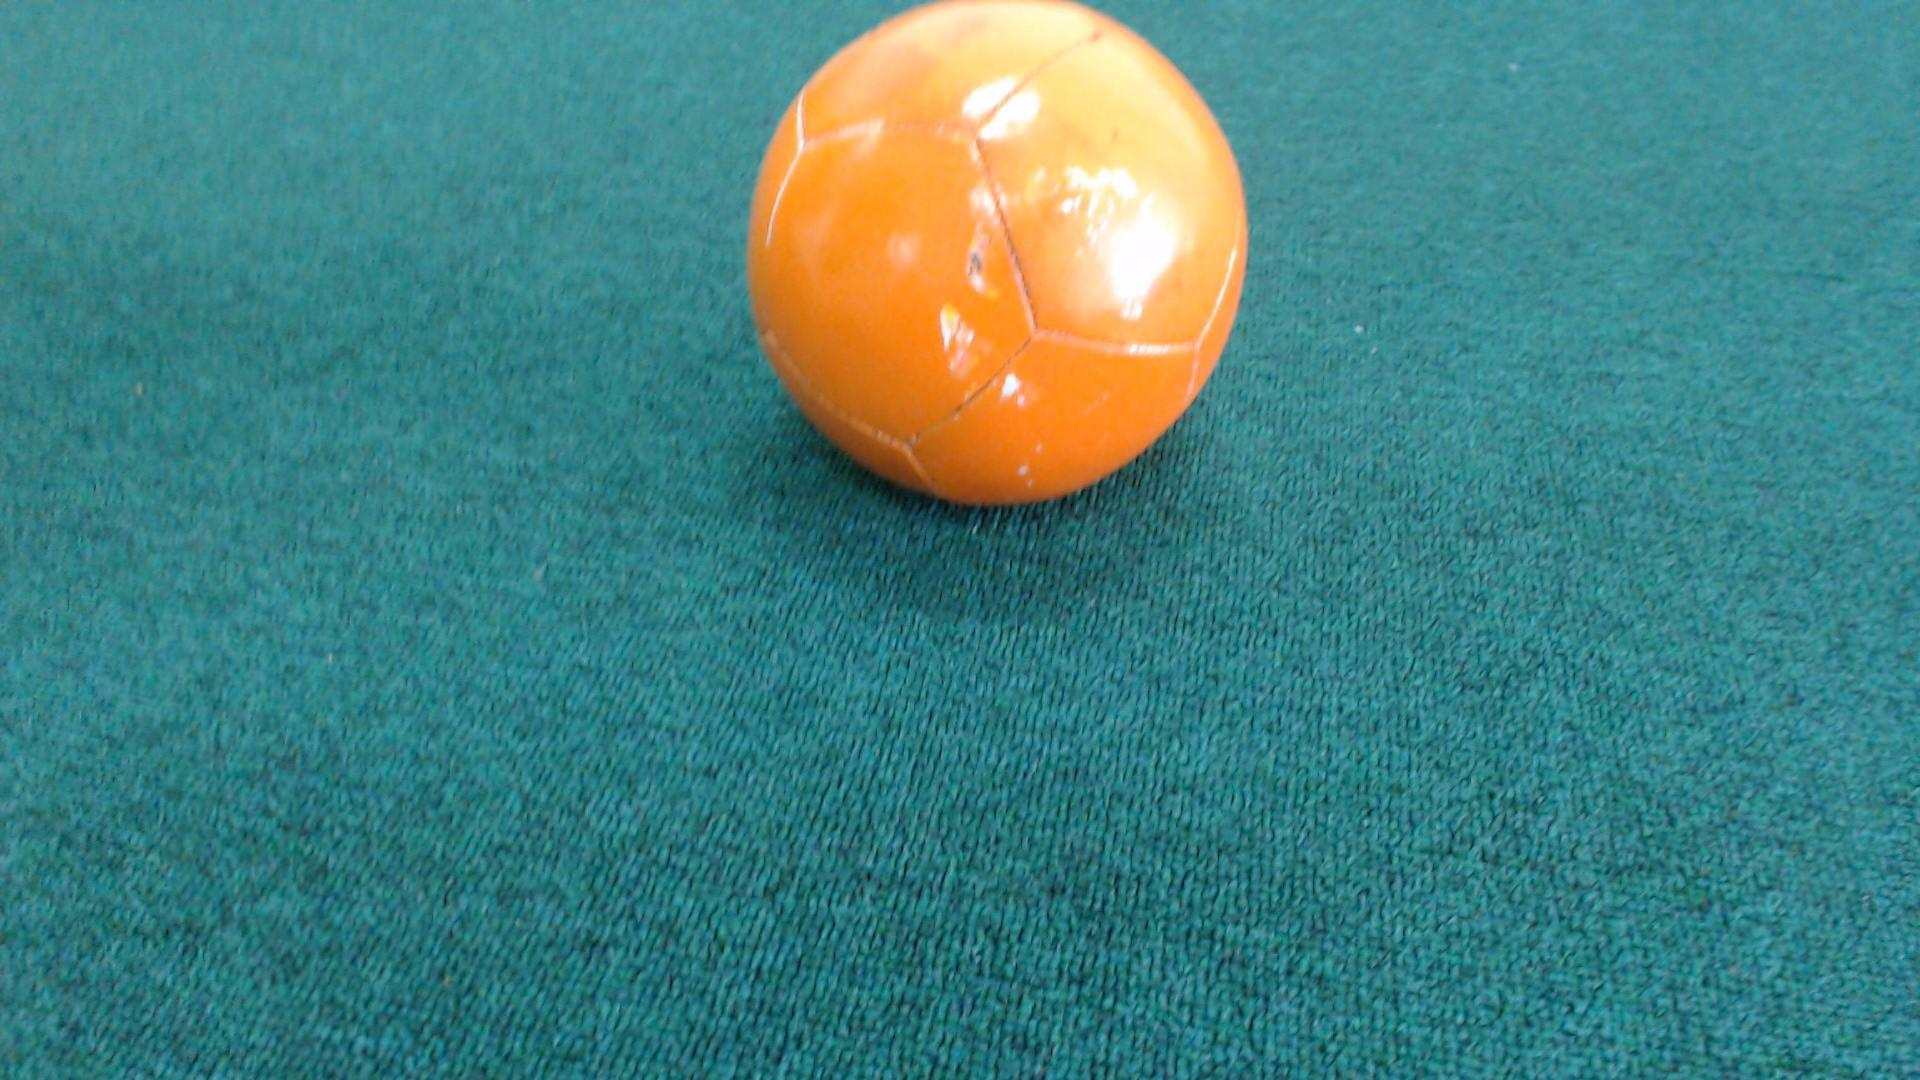bola: (702, 0, 1321, 545)
